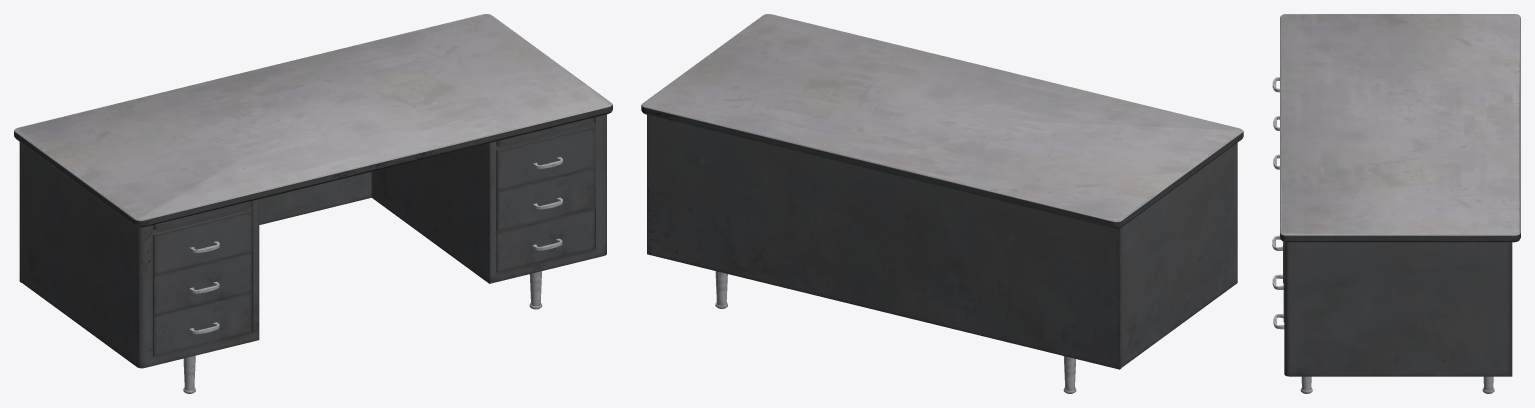
File: metal_office_desk.glb
3 views of the same model, side by side, from view 1: azimuth 30°, elevation 25°; view 2: azimuth 150°, elevation 25°; view 3: azimuth 270°, elevation 25° (orthographic). The views are drawn at different scales.
Parts seen in each view (by area): view 1: metal_office_desk_drawer_06; view 2: metal_office_desk_drawer_06; view 3: metal_office_desk_drawer_06.
Boxes of the visible parts, bbox=[...] form: metal_office_desk_drawer_06: bbox=[14, 14, 612, 393]; metal_office_desk_drawer_06: bbox=[641, 14, 1243, 393]; metal_office_desk_drawer_06: bbox=[1272, 14, 1520, 393].
Size of the model in its own units: 2 by 0.7874 by 0.9471.
Materials: 1 (1 with a texture image).
